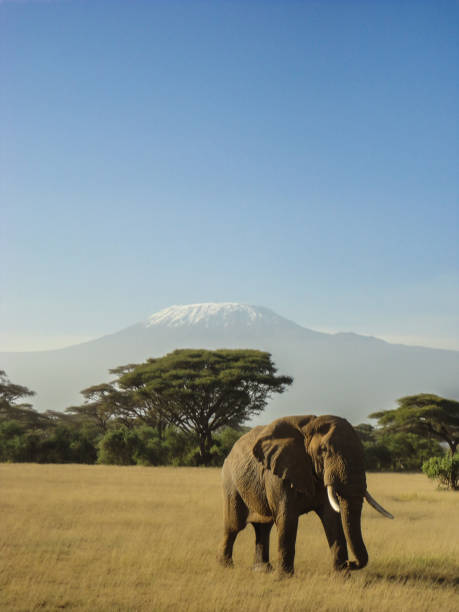africanelephant: (285, 413, 390, 534)
